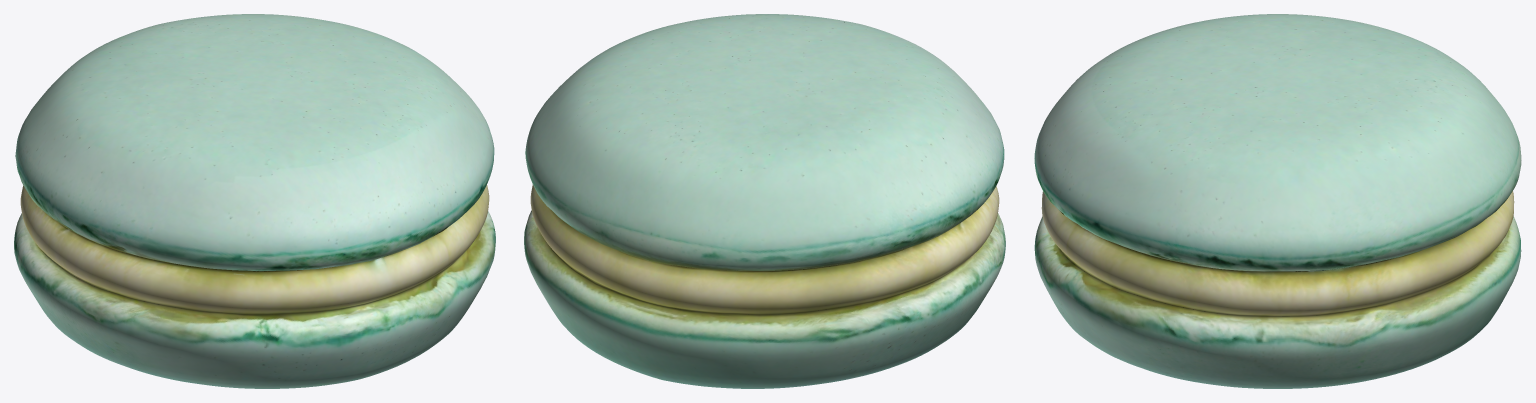
Rendered from Mint_Delight_1226215733_texture.fbx.
3 views of the same model, side by side, from view 1: azimuth 30°, elevation 25°; view 2: azimuth 150°, elevation 25°; view 3: azimuth 270°, elevation 25° (orthographic).
Parts seen in each view (by area): view 1: Mesh1_Mesh1.068; view 2: Mesh1_Mesh1.068; view 3: Mesh1_Mesh1.068.
Part boxes in pixels (x1=…): Mesh1_Mesh1.068: x1=14, y1=14, x2=495, y2=388; Mesh1_Mesh1.068: x1=524, y1=14, x2=1005, y2=388; Mesh1_Mesh1.068: x1=1034, y1=14, x2=1521, y2=388.
Bounding box in the file's own units: 200 × 115 × 199.
1 material, 1 textured.
